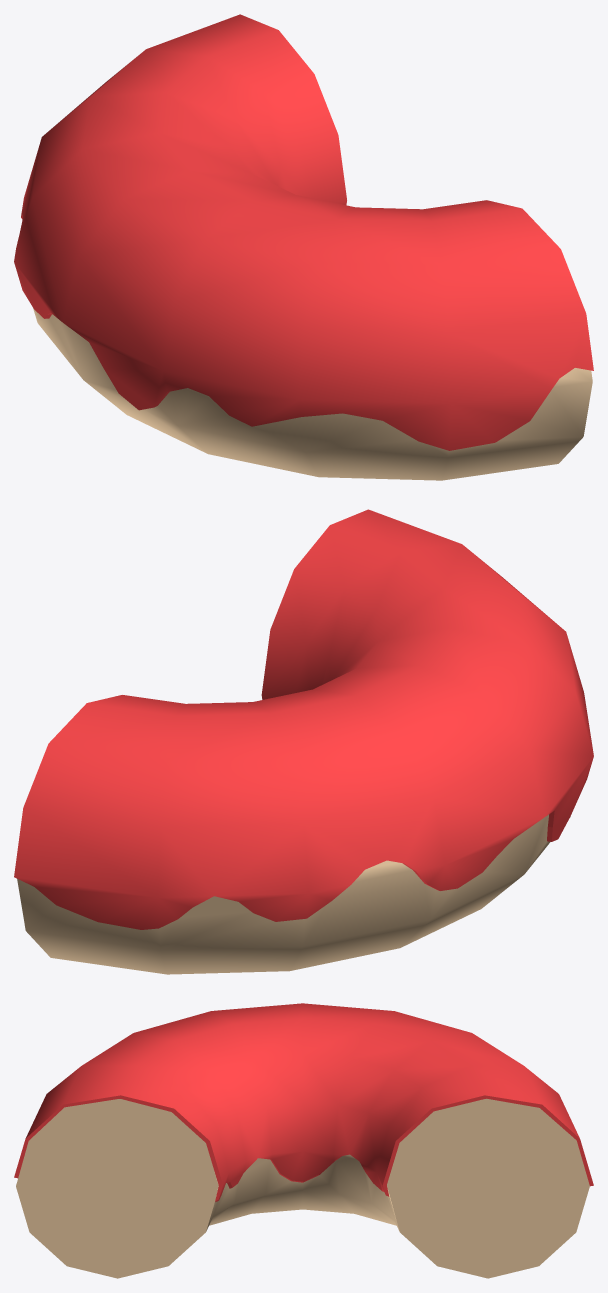
File: red_donut_cut.glb
3 renders of one model, top to bottom at view 1: azimuth 30°, elevation 25°; view 2: azimuth 150°, elevation 25°; view 3: azimuth 270°, elevation 25°, orthographic. The views are drawn at different scales.
Parts seen in each view (by area): view 1: HalfGlaze, HalfDonut; view 2: HalfGlaze, HalfDonut; view 3: HalfDonut, HalfGlaze.
Part boxes in pixels (x1=…): HalfGlaze: x1=14, y1=14, x2=593, y2=450; HalfDonut: x1=33, y1=308, x2=592, y2=480; HalfGlaze: x1=14, y1=509, x2=593, y2=929; HalfDonut: x1=17, y1=814, x2=570, y2=974; HalfDonut: x1=16, y1=1098, x2=589, y2=1278; HalfGlaze: x1=14, y1=1003, x2=593, y2=1201.
Size of the model in its own units: 1.57 by 1.09 by 3.13.
Materials: 2 (2 with a texture image).
